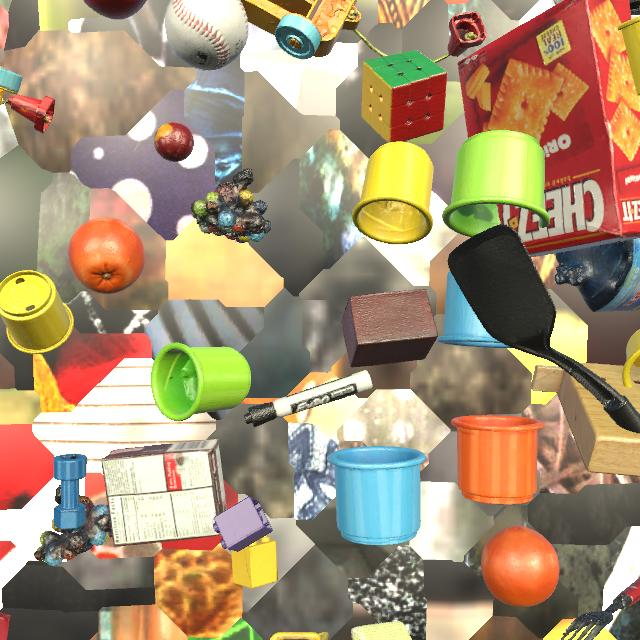ycb_003_cracker_box: (457, 0, 640, 257), (0, 612, 10, 640)
ycb_004_sugar_box: (554, 0, 564, 5)
ycb_008_pudding_box: (101, 439, 227, 547)
ycb_013_apple: (83, 0, 147, 20)
ycb_017_orange: (481, 525, 559, 607), (68, 218, 145, 294)
